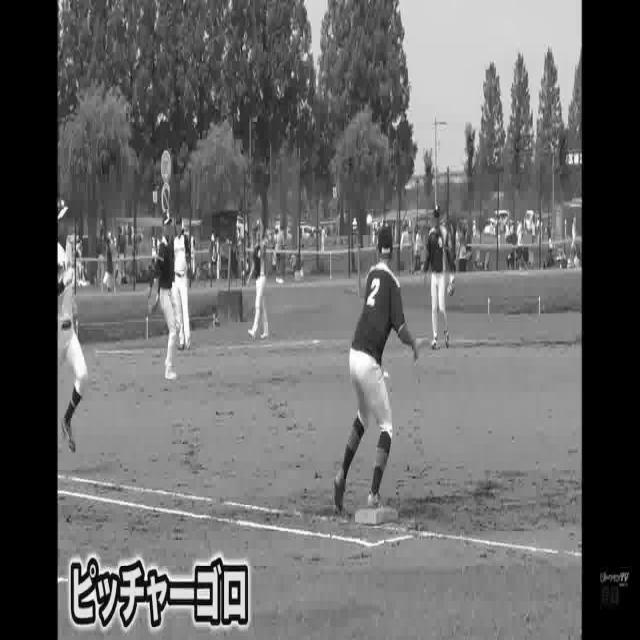base: (355, 502, 399, 524)
baseball: (365, 212, 371, 228)
shoe: (55, 415, 78, 453), (331, 467, 346, 516), (368, 483, 389, 510), (165, 373, 178, 384)
